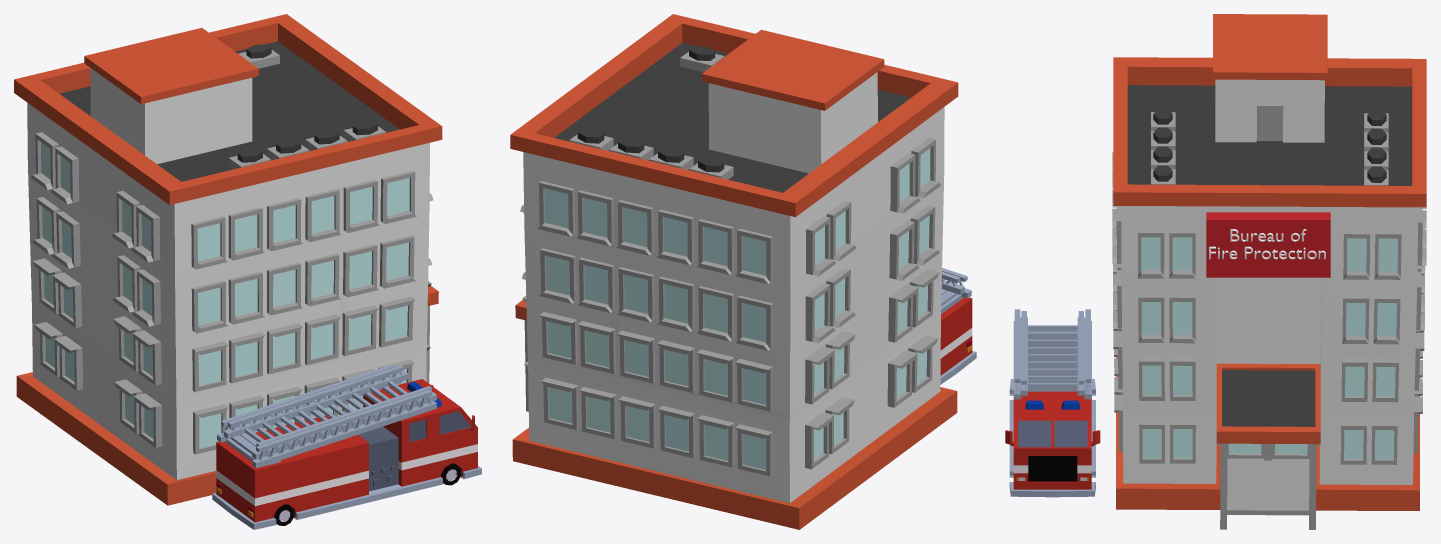
The model's file is FireStation.fbx.
The picture shows the model from 3 angles, left to right: view 1: azimuth 30°, elevation 25°; view 2: azimuth 150°, elevation 25°; view 3: azimuth 270°, elevation 25°; orthographic projection. The views are drawn at different scales.
Visible parts, largest first — view 1: FireStation_Cube.001, Firetruck; view 2: FireStation_Cube.001, Firetruck; view 3: FireStation_Cube.001, Firetruck, Cube, Text.006.
Boxes of the visible parts, bbox=[...] form: FireStation_Cube.001: bbox=[14, 14, 442, 505]; Firetruck: bbox=[212, 364, 481, 529]; FireStation_Cube.001: bbox=[510, 14, 958, 529]; Firetruck: bbox=[940, 268, 976, 384]; FireStation_Cube.001: bbox=[1112, 14, 1426, 529]; Firetruck: bbox=[1005, 309, 1100, 497]; Cube: bbox=[1206, 212, 1330, 277]; Text.006: bbox=[1209, 229, 1325, 259].
Size of the model in its own units: 812 by 889 by 910.
15 materials, 1 textured.
